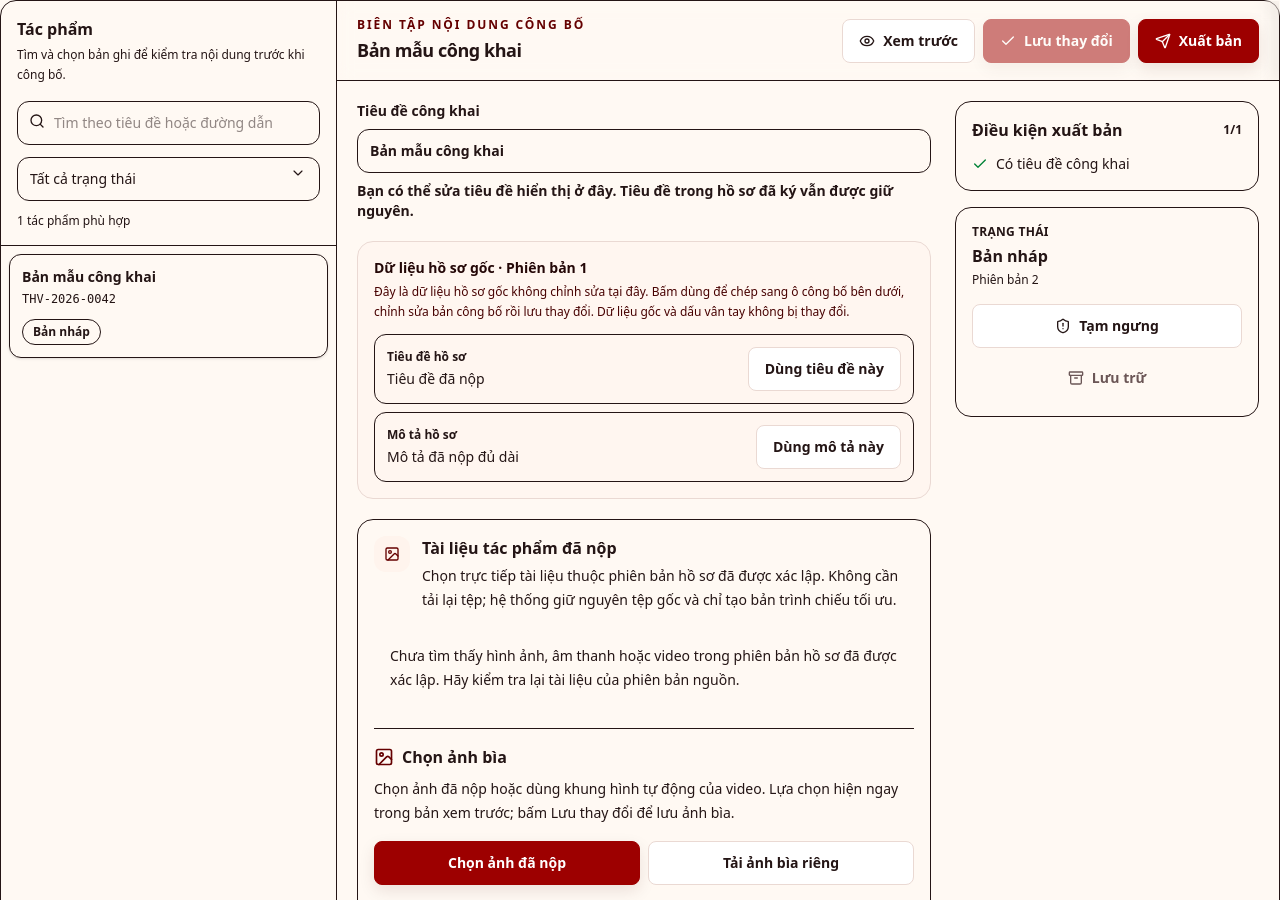
Test: PublicWorkEditor › reuses locked dossier fields and does not offer a second upload
This screenshot has width=1280, height=900.
Click the button "Bản mẫu công khai THV-2026-0042 Bản nháp". click: [89, 276]
box: x1=9 y1=254 x2=328 y2=358
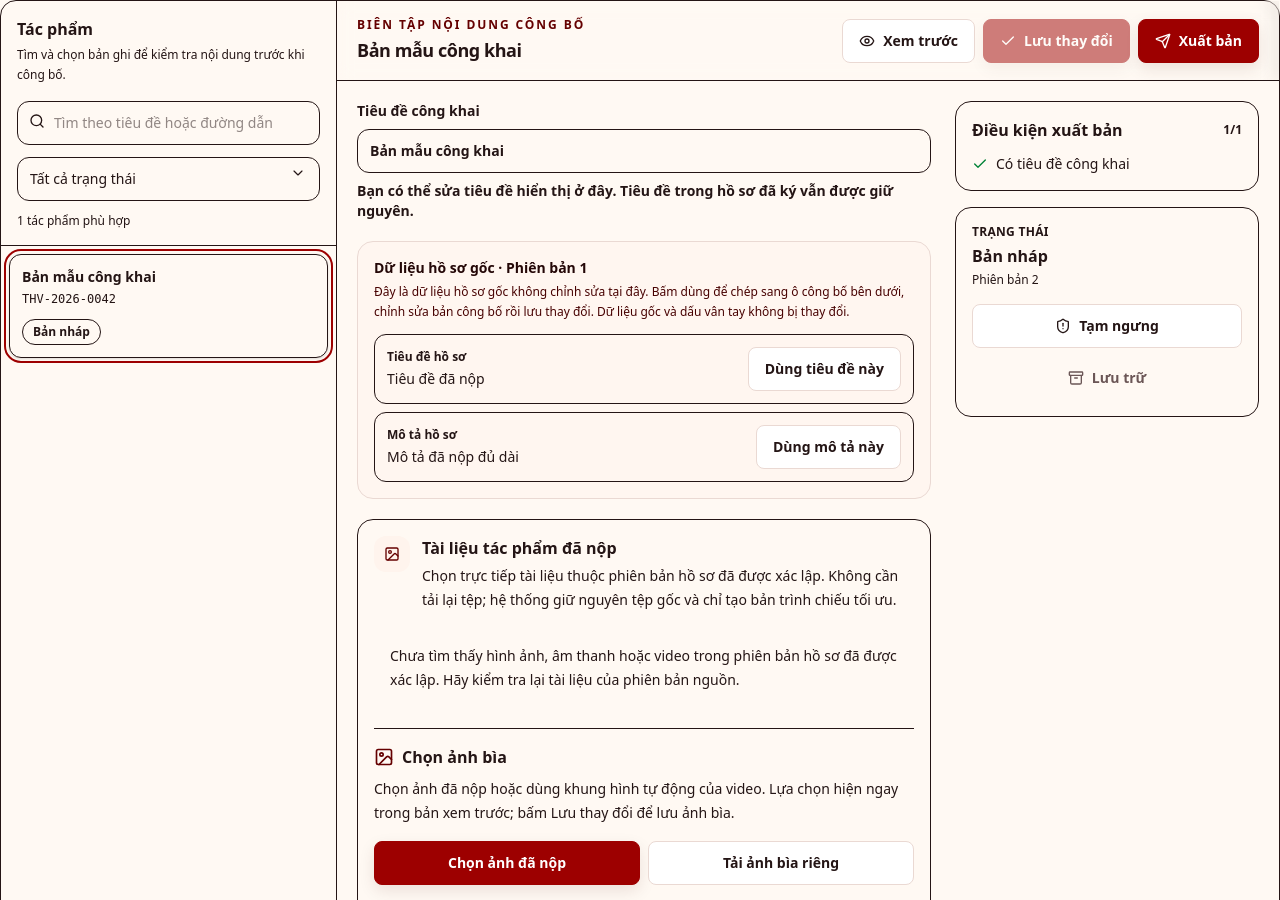
Expected: the text "Dữ liệu hồ sơ gốc · Phiên bản 1" is shown, x1=374 y1=258 x2=587 y2=277
Expected: the heading "Tài liệu tác phẩm đã nộp" is shown, x1=422 y1=537 x2=617 y2=559
Click the button "Dùng tiêu đề này". click: [824, 369]
box: x1=748 y1=347 x2=901 y2=391
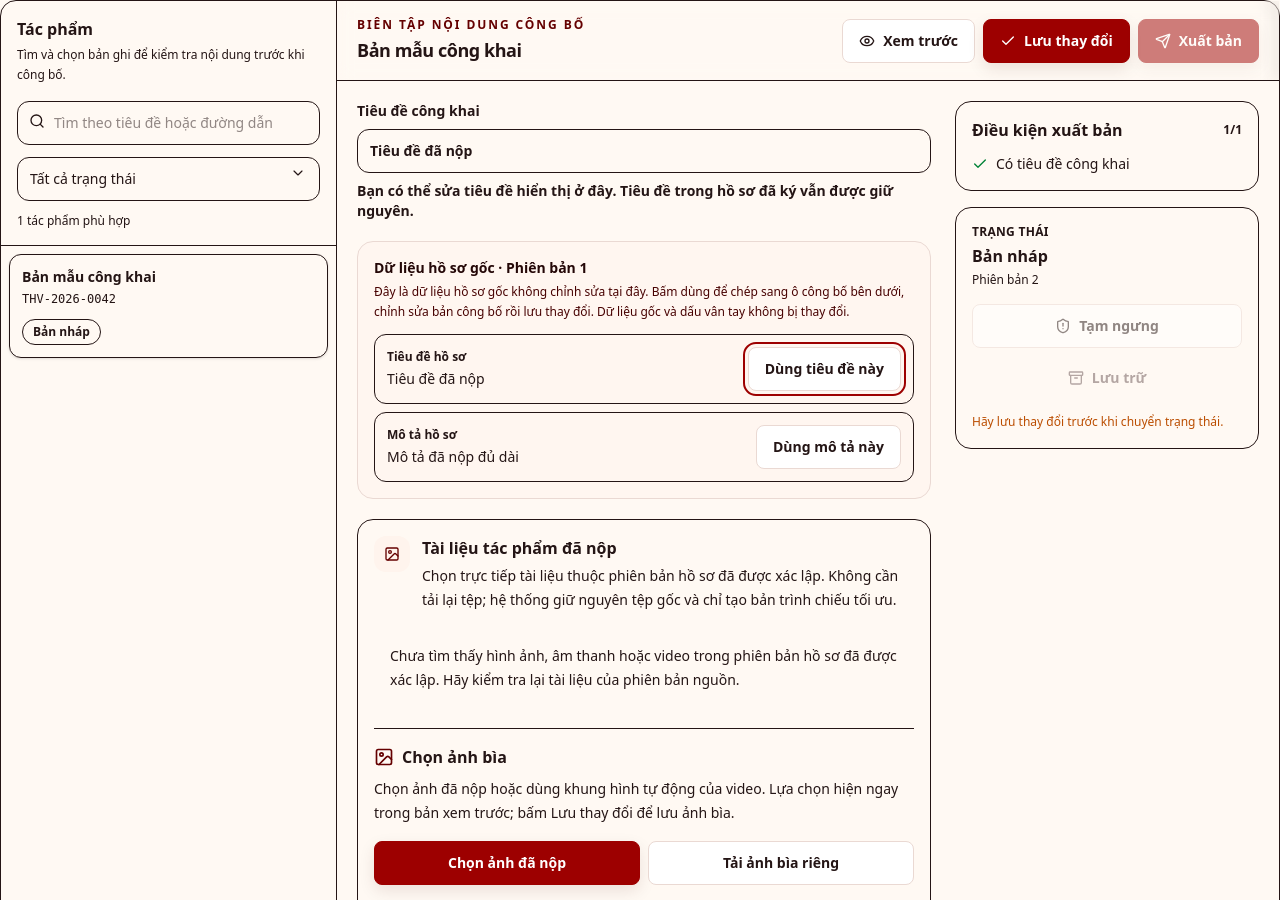
Result: the field labelled "Tiêu đề công khai" holds "Tiêu đề đã nộp" at x1=357 y1=129 x2=931 y2=173
